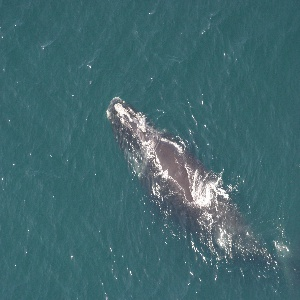cetacean: (105, 96, 299, 268)
